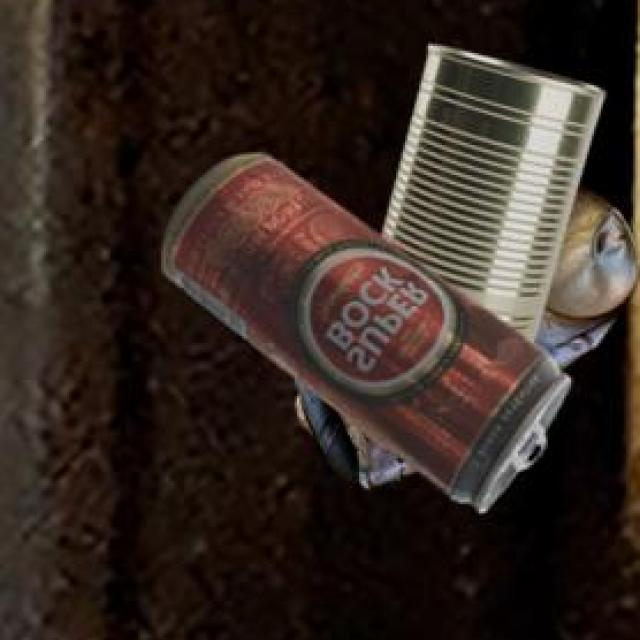logam: (162, 158, 567, 517), (291, 190, 637, 492), (379, 47, 600, 344)
